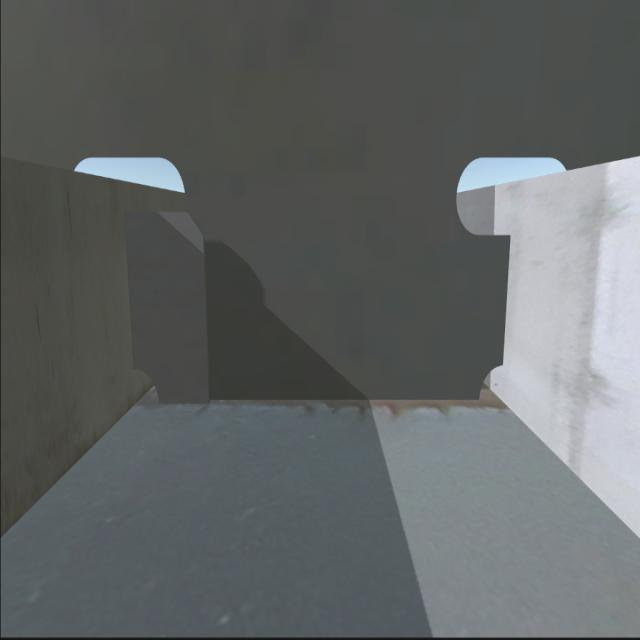fillet_hole: (470, 360, 512, 401), (134, 366, 163, 403)
fillet_yong_jeop_jang: (151, 396, 483, 404)
longi_yong_jeop_jang: (496, 238, 522, 366), (120, 218, 142, 366)
plate_CP03: (127, 212, 210, 406)
